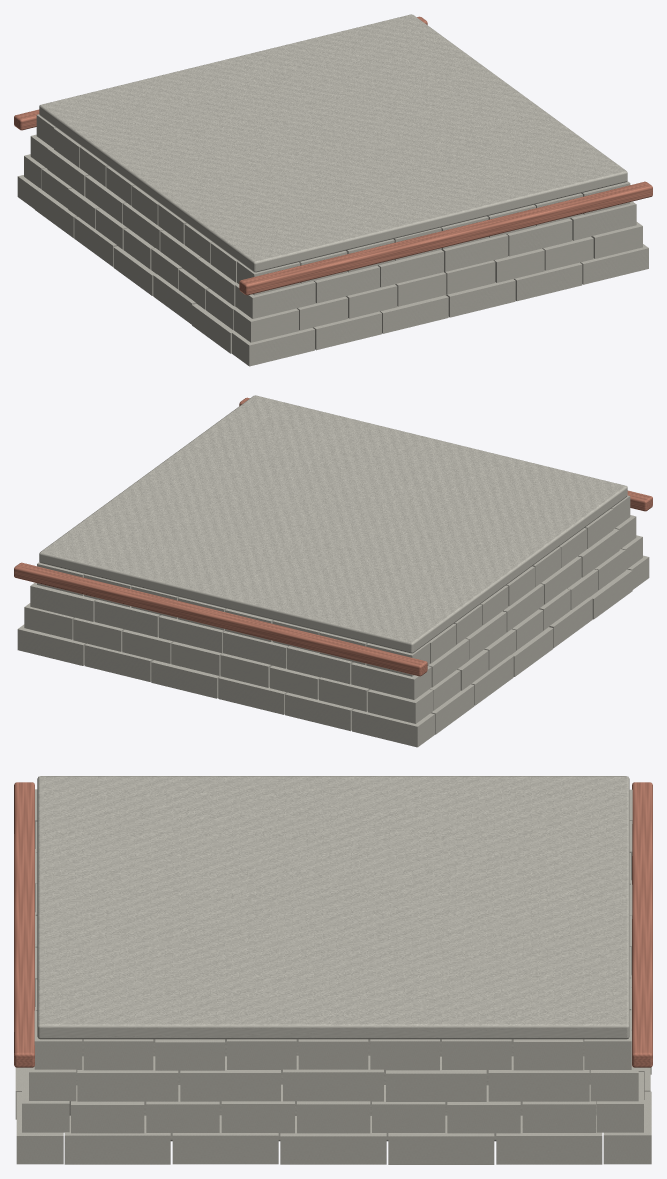
The model's file is jungle-temple-and-stone-city-temple-platform-plinth-99eb4d34__36107.glb.
The picture shows the model from 3 angles, top to bottom: view 1: azimuth 30°, elevation 25°; view 2: azimuth 150°, elevation 25°; view 3: azimuth 270°, elevation 25°; orthographic projection. The views are drawn at different scales.
Parts seen in each view (by area): view 1: temple-platform-plinth; view 2: temple-platform-plinth; view 3: temple-platform-plinth.
Part boxes in pixels (left/top/right/bottom): temple-platform-plinth: left=14, top=14, right=652, bottom=366; temple-platform-plinth: left=14, top=395, right=652, bottom=747; temple-platform-plinth: left=14, top=776, right=652, bottom=1164.
Size of the model in its own units: 6.1 by 1.37 by 6.04.
Materials: 3 (3 with a texture image).
